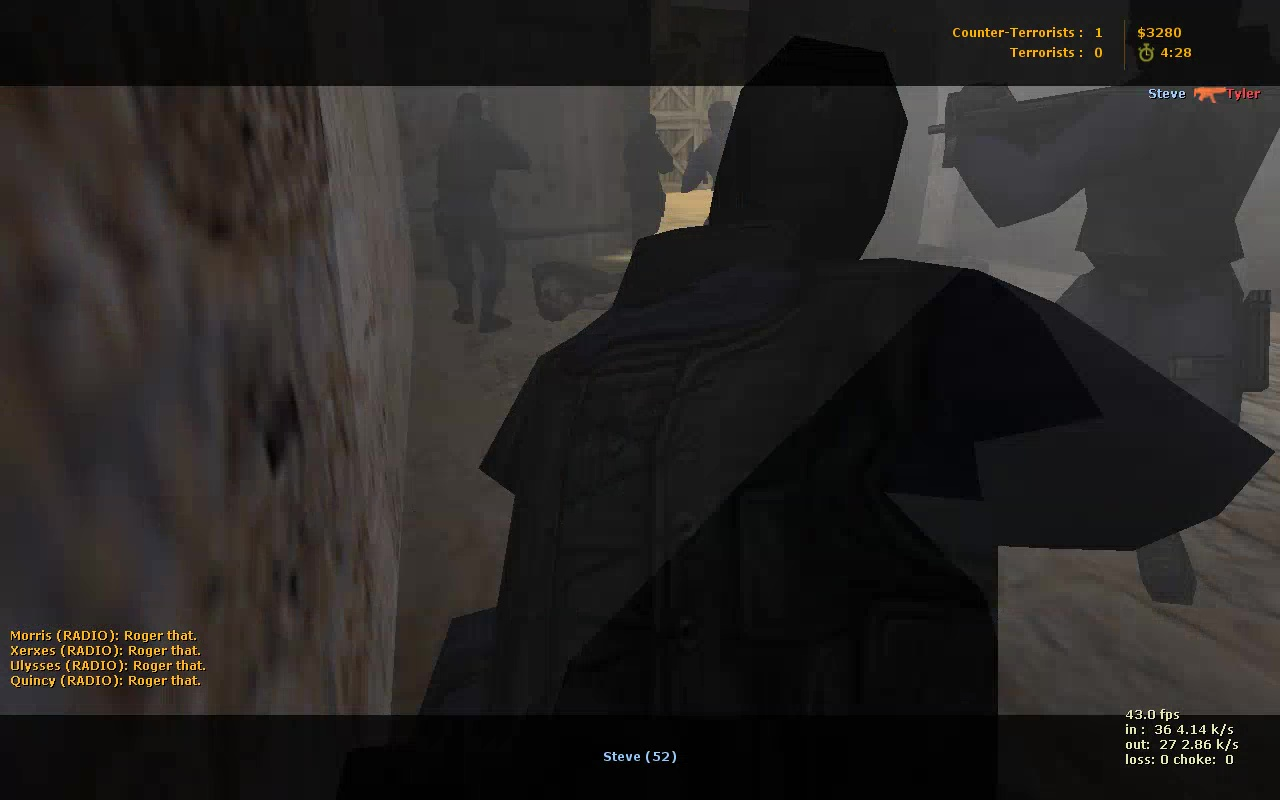ct: (431, 40, 1239, 716), (431, 90, 523, 327), (623, 114, 671, 250)
